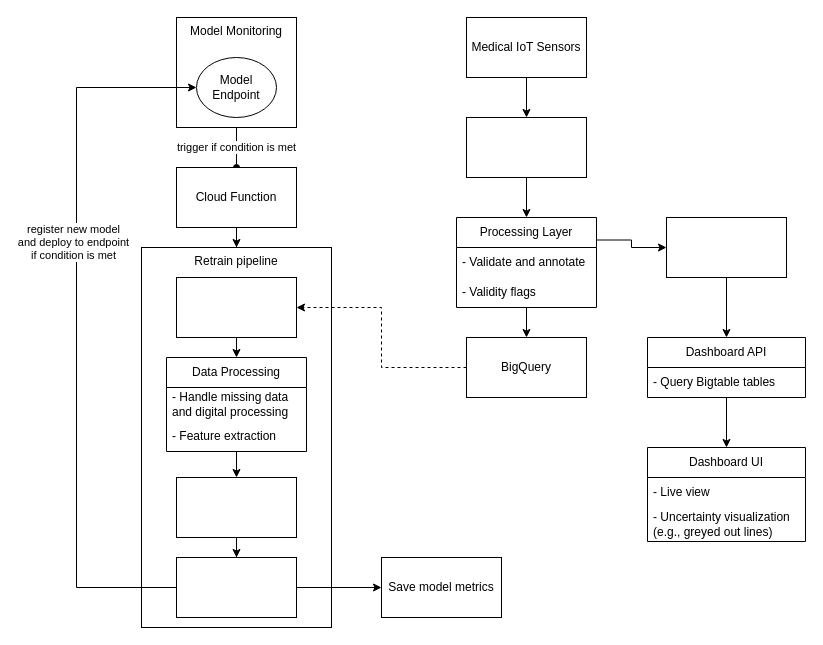
This 823x645 diagram has some shape labels left out. Here are the shapes that lost their labels. From the top down, the centre of each, then its label:
At (x=526, y=147): "Streaming Ingest (ts, HR, body temp., SpO2)".
At (x=726, y=247): "Bigtable".
At (x=236, y=307): "Data Ingestion".
At (x=236, y=507): "Model training or fine-tuning".
At (x=236, y=587): "Evaluation and comparison with previous model".
